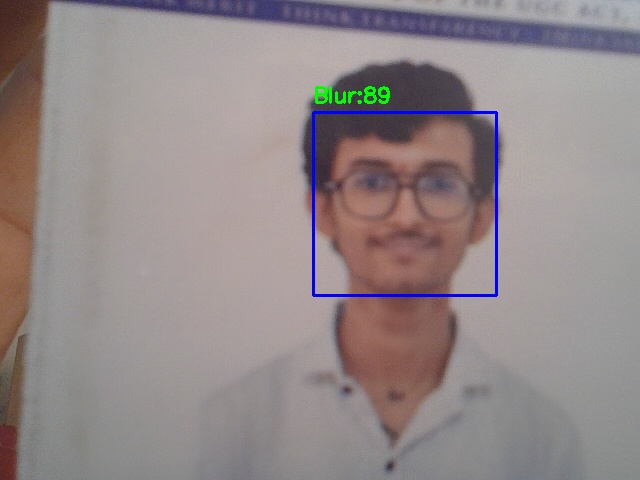fake: (313, 112, 496, 295)
